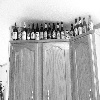beer: (29, 22, 37, 41)
